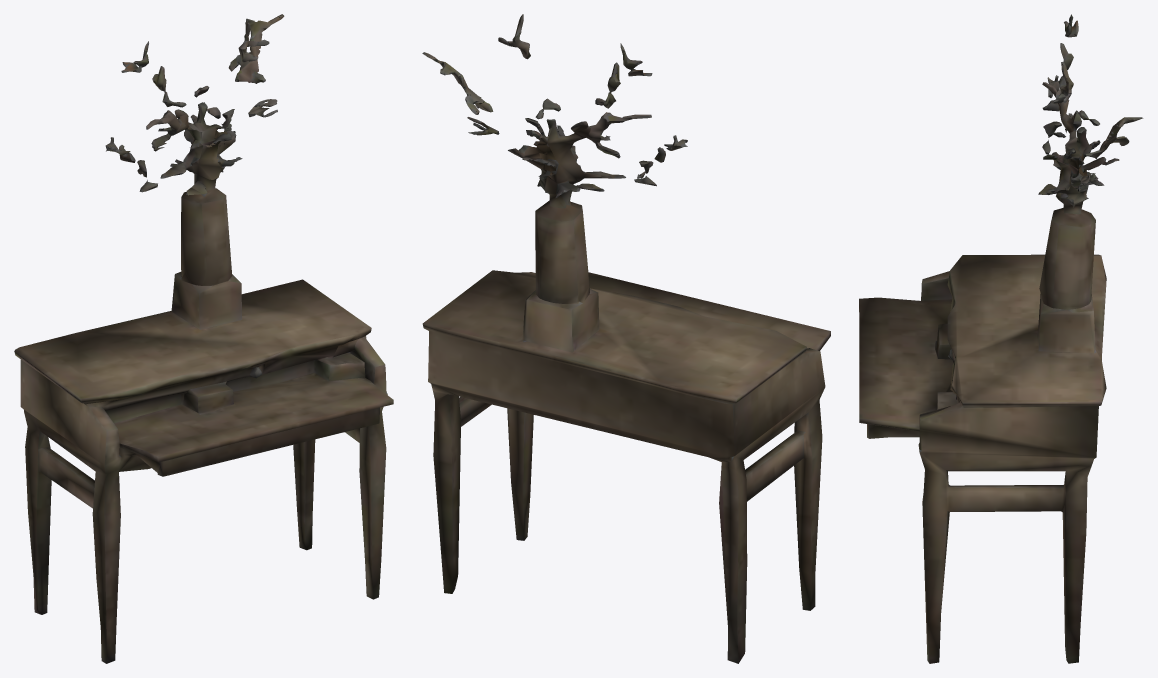
The model's file is ancient-wood-desk-v001.glb.
3 views of the same model, side by side, from view 1: azimuth 30°, elevation 25°; view 2: azimuth 150°, elevation 25°; view 3: azimuth 270°, elevation 25° (orthographic). The views are drawn at different scales.
Parts seen in each view (by area): view 1: ancient-wood-desk; view 2: ancient-wood-desk; view 3: ancient-wood-desk.
Boxes of the visible parts, x1,y1,x2,y2 form: ancient-wood-desk: (14,14,393,663); ancient-wood-desk: (422,14,830,663); ancient-wood-desk: (859,14,1143,663).
Size of the model in its own units: 0.4399 by 0.787 by 0.3574.
Materials: 1 (1 with a texture image).
